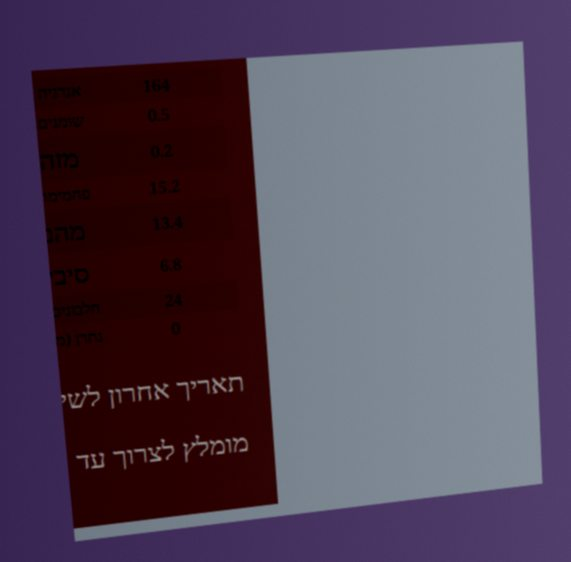carbs: (145, 172, 184, 202)
energy: (139, 71, 174, 100)
fat: (144, 101, 173, 129)
protein: (161, 286, 186, 314)
